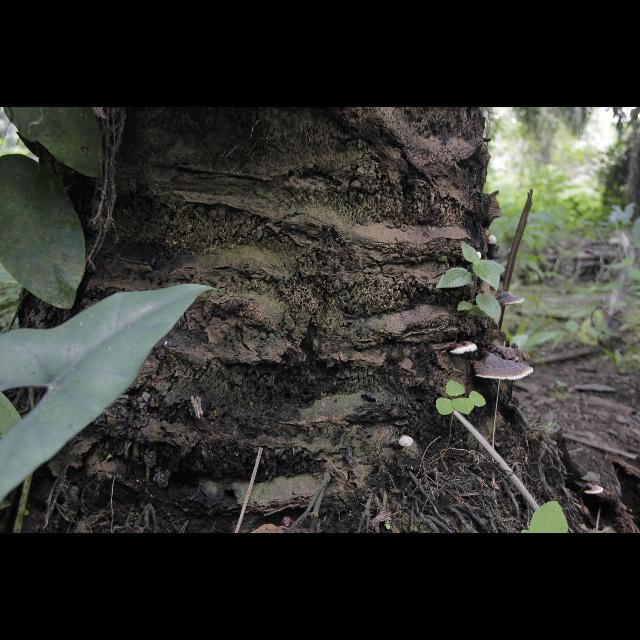ganoderma: (474, 355, 535, 382), (485, 345, 520, 363), (498, 290, 527, 306), (451, 342, 478, 356), (583, 485, 605, 496)
primordium: (399, 436, 415, 449), (488, 235, 498, 246), (478, 253, 483, 261)
